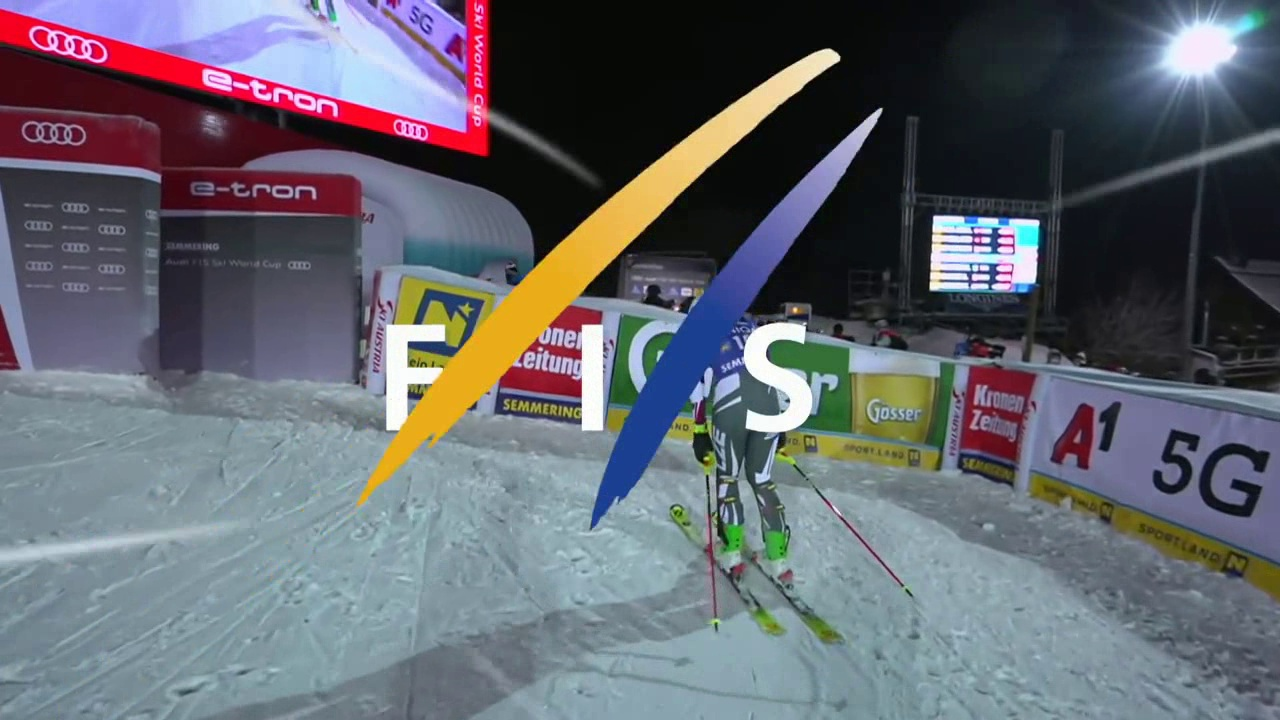a1: (1045, 397, 1132, 476)
audi: (18, 17, 116, 69), (11, 119, 103, 154), (390, 116, 432, 144), (21, 259, 55, 278), (19, 218, 54, 236), (98, 222, 130, 240)
etron: (176, 173, 333, 211)
goesser: (857, 383, 931, 432)
kronenzeitung: (969, 368, 1026, 457)
